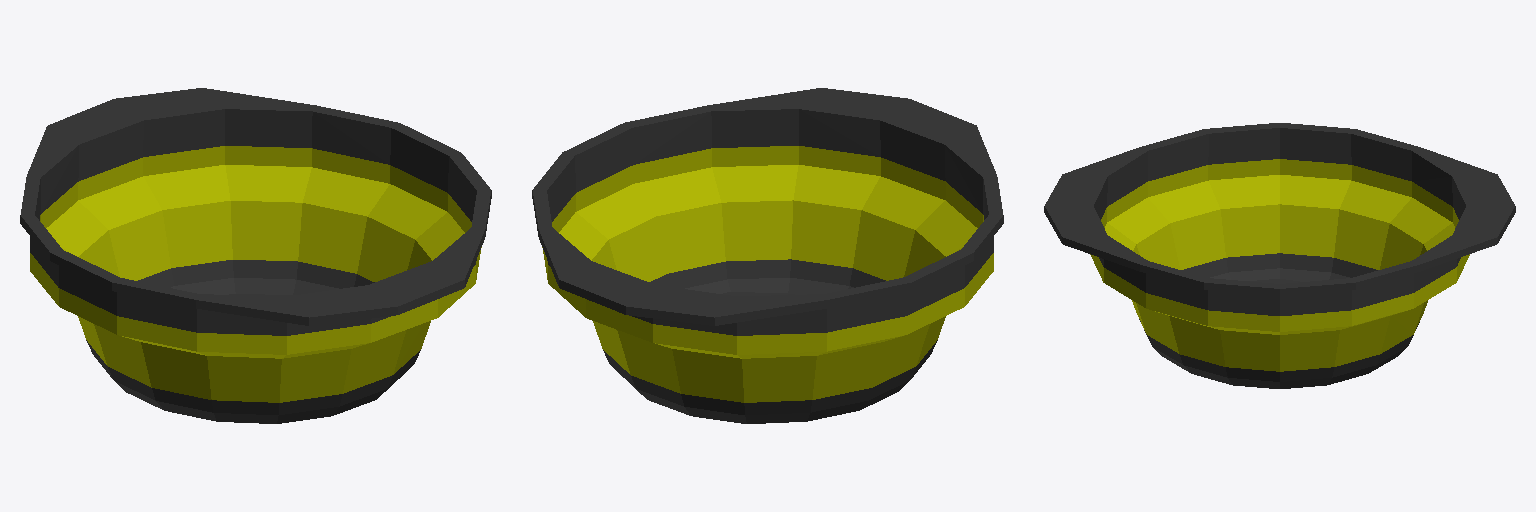
robot.urdf — yellow_bowl:
<?xml version="1.0"?>

<robot name="yellow_bowl">
  <link name="yellow_bowl_frame">
    <visual>
      <origin xyz="0.0 0.0 0.1" rpy="0.0 0.0 0.0"/>
      <geometry>
        <mesh filename="package://iai_kitchen/meshes/racks/BoxyToolholder/yellow_bowl.dae"/>
      </geometry>
    </visual>
  </link>
</robot>

--- Render facts (derived) ---
Views: 3 orthographic renders of the robot side by side, from view 1: azimuth 30°, elevation 25°; view 2: azimuth 150°, elevation 25°; view 3: azimuth 270°, elevation 25°.
Robot: yellow_bowl — 1 links, 0 joints (none); root link yellow_bowl_frame; default pose: all joints at 0.
Links seen in each view (by area): view 1: yellow_bowl_frame; view 2: yellow_bowl_frame; view 3: yellow_bowl_frame.
Link boxes in pixels (left/top/right/bottom): yellow_bowl_frame: left=20, top=88, right=491, bottom=423; yellow_bowl_frame: left=532, top=88, right=1003, bottom=423; yellow_bowl_frame: left=1044, top=123, right=1515, bottom=388.
Size in the robot's own frame: 0.2803 by 0.3352 by 0.1027 metres.
Meshes: 1 distinct files referenced, 1 mesh visuals loaded (1 Collada DAE).